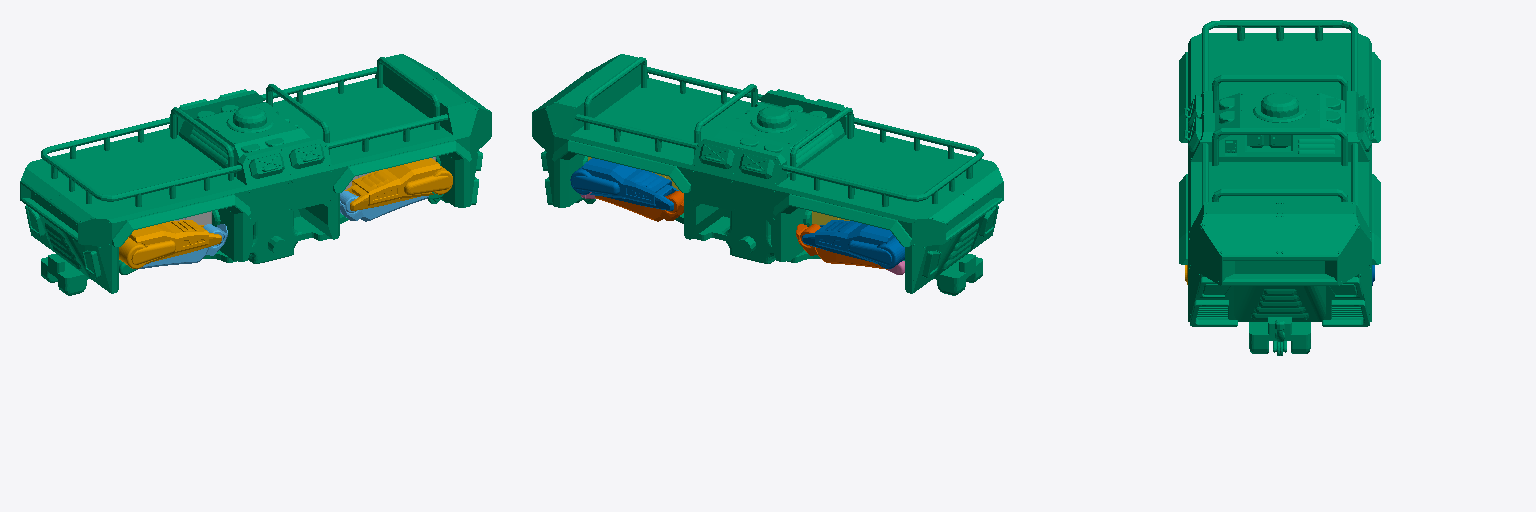
--- Render facts (derived) ---
The picture shows the robot from 3 angles, left to right: view 1: azimuth 30°, elevation 25°; view 2: azimuth 150°, elevation 25°; view 3: azimuth 270°, elevation 25°; orthographic projection.
Model kitech_robot with 21 links and 20 joints (12 revolute, 2 continuous, 6 fixed), rooted at world, posed every joint at zero.
Links seen in each view (by area): view 1: body, RF_limb_1, RH_limb_1, RF_limb_2, RH_limb_2; view 2: body, LF_limb_1, LH_limb_1, LF_limb_2, LH_limb_2; view 3: body.
Link boxes in pixels (box(x1,y1,x2,y2)): body: box(20, 54, 491, 295); RF_limb_1: box(345, 158, 452, 210); RH_limb_1: box(119, 220, 221, 268); RF_limb_2: box(340, 191, 428, 221); RH_limb_2: box(136, 224, 227, 269); body: box(532, 54, 1003, 295); LF_limb_1: box(570, 158, 678, 210); LH_limb_1: box(802, 220, 904, 268); LF_limb_2: box(595, 191, 683, 221); LH_limb_2: box(796, 224, 887, 269); body: box(1179, 20, 1380, 355).
Bounding box of the posed robot: 2.26 × 0.83 × 1.78 m (x, y, z).
Meshes: 7 distinct files referenced, 17 mesh visuals loaded (6 binary STL); not drawn: 2 (reference not matched to a file when rendering).

URDF robot description (kitech_robot):
<?xml version="1.0" ?>
<!-- =================================================================================== -->
<!-- |    This document was autogenerated by xacro from kitech_robot.xacro             | -->
<!-- |    EDITING THIS FILE BY HAND IS NOT RECOMMENDED                                 | -->
<!-- =================================================================================== -->
<robot name="kitech_robot" xmlns:xacro="http://ros.org/wiki/xacro">
  <!-- ros_control plugin -->
  <gazebo>
    <plugin filename="libgazebo_ros_control.so" name="gazebo_ros_control">
      <robotNamespace>/kitech_robot</robotNamespace>
      <robotSimType>gazebo_ros_control/DefaultRobotHWSim</robotSimType>
      <controlPeriod>0.001</controlPeriod>
    </plugin>
  </gazebo>
  <link name="world"/>
  <joint name="fixed_to_world" type="fixed">
    <origin xyz="0 0 0"/>
    <parent link="world"/>
    <child link="base_footprint"/>
  </joint>
  <!-- BASE-FOOTPRINT -->
  <!-- base_footprint is a fictitious link(frame) that is on the ground right below body origin -->
  <link name="base_footprint">
    <inertial>
      <origin xyz="0 0 0"/>
      <mass value="0.0001"/>
      <inertia ixx="0.0001" ixy="0.0" ixz="0.0" iyy="0.0001" iyz="0.0" izz="0.0001"/>
    </inertial>
    <visual>
      <origin rpy="0 0 0" xyz="0 0 0"/>
      <geometry>
        <box size="0.001 0.001 0.001"/>
      </geometry>
    </visual>
  </link>
  <joint name="footprint_body" type="fixed">
    <origin rpy="0 0 0" xyz="0 0 1"/>
    <parent link="base_footprint"/>
    <child link="body"/>
  </joint>
  <link name="body">
    <inertial>
      <origin rpy="0 0 0" xyz="0.062594 0.0 0.457496"/>
      <mass value="1181"/>
      <inertia ixx="64.387768" ixy="-0.007626" ixz="-7.441046" iyy="461.852065" iyz="-0.011013" izz="480.676973"/>
    </inertial>
    <visual>
      <origin xyz="0.0 0.0 0.46585"/>
      <geometry>
        <mesh filename="package://kitech_robots_description/mesh/for_VREP/Body_with_wheel_plate.stl" scale="0.001 0.001 0.001"/>
      </geometry>
    </visual>
    <collision>
      <origin xyz="0.059 0.0 0.425"/>
      <geometry>
        <box size="2.27 0.83 0.702"/>
      </geometry>
    </collision>
  </link>
  <joint name="LF_HAA_joint" type="revolute">
    <origin xyz="0.816 0.17 0.37085"/>
    <parent link="body"/>
    <child link="LF_limb_0"/>
    <axis xyz="1 0 0"/>
    <limit effort="500" lower="-3.14159265359" upper="3.14159265359" velocity="20"/>
    <!-- <dynamics damping="0.2" friction="0.2"/> -->
  </joint>
  <link name="LF_limb_0">
    <inertial>
      <origin xyz="-0.218617 0.0 -0.000024"/>
      <mass value="11.381"/>
      <inertia ixx="0.027746" ixy="0.0" ixz="0.0" iyy="0.331276" iyz="0.0" izz="0.308905"/>
    </inertial>
    <visual>
      <origin rpy="0.0 0.0 0.0" xyz="0.0 0.0 0.0"/>
      <geometry>
        <mesh filename="package://kitech_robots_description/mesh/for_VREP/Limb_0.stl" scale="0.001 0.001 0.001"/>
      </geometry>
    </visual>
    <collision>
      <origin rpy="0.0 0.0 0.0" xyz="-0.215 0.0 0.0"/>
      <geometry>
        <box size="0.58 0.054 0.16"/>
      </geometry>
    </collision>
  </link>
  <joint name="LF_HFE_joint" type="revolute">
    <origin xyz="0.0 0.11 0.0"/>
    <parent link="LF_limb_0"/>
    <child link="LF_limb_1"/>
    <axis xyz="0 1 0"/>
    <limit effort="500" lower="-1.57079632679" upper="-0.0" velocity="20"/>
    <!-- <dynamics damping="0.2" friction="0.2"/> -->
  </joint>
  <link name="LF_limb_1">
    <inertial>
      <origin xyz="-0.146209 0.004659 0.007285"/>
      <mass value="24.551"/>
      <inertia ixx="0.096263" ixy="-0.00973" ixz="-0.013271" iyy="0.395041" iyz="0.00026" izz="0.42336"/>
    </inertial>
    <visual>
      <origin rpy="0.0 0.0 0.0" xyz="0.0 0.0 0.0"/>
      <geometry>
        <mesh filename="package://kitech_robots_description/mesh/for_VREP/Limb_1_left.stl" scale="0.001 0.001 0.001"/>
      </geometry>
    </visual>
    <collision>
      <origin rpy="0.0 0.0 0.0" xyz="-0.205 0.013 0.0125"/>
      <geometry>
        <box size="0.53 0.196 0.155"/>
      </geometry>
    </collision>
  </link>
  <joint name="LF_KFE_joint" type="revolute">
    <origin xyz="-0.45 0.0 -0.03"/>
    <parent link="LF_limb_1"/>
    <child link="LF_limb_2"/>
    <axis xyz="0 1 0"/>
    <limit effort="500" lower="0.0" upper="3.14159265359" velocity="20"/>
    <!-- <dynamics damping="0.2" friction="0.2"/> -->
  </joint>
  <link name="LF_limb_2">
    <inertial>
      <origin xyz="0.114799 -1.4e-05 -0.044794"/>
      <mass value="6.629"/>
      <inertia ixx="0.009829" ixy="0.0" ixz="0.012479" iyy="0.107571" iyz="0.0" izz="0.103829"/>
    </inertial>
    <visual>
      <origin rpy="0.0 0.0 0.0" xyz="0.0 0.0 0.0"/>
      <geometry>
        <mesh filename="package://kitech_robots_description/mesh/for_VREP/Limb_2.stl" scale="0.001 0.001 0.001"/>
      </geometry>
    </visual>
    <collision>
      <origin rpy="0.0 0.0 0.0" xyz="0.171323 0.0 -0.036283"/>
      <geometry>
        <box size="0.497 0.095 0.153"/>
      </geometry>
    </collision>
  </link>
  <joint name="LF_foot" type="fixed">
    <origin xyz="0.4187 0.0 -0.044234"/>
    <parent link="LF_limb_2"/>
    <child link="LF_foot"/>
  </joint>
  <link name="LF_foot">
    <inertial>
      <origin xyz="0.0442 2.8e-05 -0.012672"/>
      <mass value="0.2"/>
      <inertia ixx="0.000083" ixy="0.0" ixz="0.0" iyy="0.000146" iyz="0.0" izz="0.000131"/>
    </inertial>
    <visual>
      <origin rpy="0.0 0.0 0.0" xyz="0.0 0.0 0.0"/>
      <geometry>
        <mesh filename="package://kitech_robots_description/mesh/for_VREP/Foot.stl" scale="0.001 0.001 0.001"/>
      </geometry>
    </visual>
    <collision>
      <origin rpy="1.57079632679 0.0 0.0" xyz="0.05 0.0 -0.013252"/>
      <geometry>
        <cylinder length="0.05" radius="0.035"/>
      </geometry>
    </collision>
  </link>
  <transmission name="LF_HAA_trans">
    <type>transmission_interface/SimpleTransmission</type>
    <joint name="LF_HAA_joint">
      <hardwareInterface>hardware_interface/EffortJointInterface</hardwareInterface>
    </joint>
    <actuator name="LF_HAA_motor">
      <hardwareInterface>hardware_interface/EffortJointInterface</hardwareInterface>
      <mechanicalReduction>1</mechanicalReduction>
    </actuator>
  </transmission>
  <transmission name="LF_HFE_trans">
    <type>transmission_interface/SimpleTransmission</type>
    <joint name="LF_HFE_joint">
      <hardwareInterface>hardware_interface/EffortJointInterface</hardwareInterface>
    </joint>
    <actuator name="LF_HFE_motor">
      <hardwareInterface>hardware_interface/EffortJointInterface</hardwareInterface>
      <mechanicalReduction>1</mechanicalReduction>
    </actuator>
  </transmission>
  <transmission name="LF_KFE_trans">
    <type>transmission_interface/SimpleTransmission</type>
    <joint name="LF_KFE_joint">
      <hardwareInterface>hardware_interface/EffortJointInterface</hardwareInterface>
    </joint>
    <actuator name="LF_KFE_motor">
      <hardwareInterface>hardware_interface/EffortJointInterface</hardwareInterface>
      <mechanicalReduction>1</mechanicalReduction>
    </actuator>
  </transmission>
  <joint name="RF_HAA_joint" type="revolute">
    <origin xyz="0.816 -0.17 0.37085"/>
    <parent link="body"/>
    <child link="RF_limb_0"/>
    <axis xyz="1 0 0"/>
    <limit effort="500" lower="-3.14159265359" upper="3.14159265359" velocity="20"/>
    <!-- <dynamics damping="0.2" friction="0.2"/> -->
  </joint>
  <link name="RF_limb_0">
    <inertial>
      <origin xyz="-0.218617 0.0 -0.000024"/>
      <mass value="11.381"/>
      <inertia ixx="0.027746" ixy="0.0" ixz="0.0" iyy="0.331276" iyz="0.0" izz="0.308905"/>
    </inertial>
    <visual>
      <origin rpy="0.0 0.0 0.0" xyz="0.0 0.0 0.0"/>
      <geometry>
        <mesh filename="package://kitech_robots_description/mesh/for_VREP/Limb_0.stl" scale="0.001 0.001 0.001"/>
      </geometry>
    </visual>
    <collision>
      <origin rpy="0.0 0.0 0.0" xyz="-0.215 0.0 0.0"/>
      <geometry>
        <box size="0.58 0.054 0.16"/>
      </geometry>
    </collision>
  </link>
  <joint name="RF_HFE_joint" type="revolute">
    <origin xyz="0.0 -0.11 0.0"/>
    <parent link="RF_limb_0"/>
    <child link="RF_limb_1"/>
    <axis xyz="0 1 0"/>
    <limit effort="500" lower="-1.57079632679" upper="-0.0" velocity="20"/>
    <!-- <dynamics damping="0.2" friction="0.2"/> -->
  </joint>
  <link name="RF_limb_1">
    <inertial>
      <origin xyz="-0.146209 -0.004659 0.007285"/>
      <mass value="24.551"/>
      <inertia ixx="0.096263" ixy="0.00973" ixz="-0.013271" iyy="0.395041" iyz="-0.00026" izz="0.42336"/>
    </inertial>
    <visual>
      <origin rpy="0.0 0.0 0.0" xyz="0.0 0.0 0.0"/>
      <geometry>
        <mesh filename="package://kitech_robots_description/mesh/for_VREP/Limb_1_right.stl" scale="0.001 0.001 0.001"/>
      </geometry>
    </visual>
    <collision>
      <origin rpy="0.0 0.0 0.0" xyz="-0.205 -0.013 0.0125"/>
      <geometry>
        <box size="0.53 0.196 0.155"/>
      </geometry>
    </collision>
  </link>
  <joint name="RF_KFE_joint" type="revolute">
    <origin xyz="-0.45 0.0 -0.03"/>
    <parent link="RF_limb_1"/>
    <child link="RF_limb_2"/>
    <axis xyz="0 1 0"/>
    <limit effort="500" lower="0.0" upper="3.14159265359" velocity="20"/>
    <!-- <dynamics damping="0.2" friction="0.2"/> -->
  </joint>
  <link name="RF_limb_2">
    <inertial>
      <origin xyz="0.114799 1.4e-05 -0.044794"/>
      <mass value="6.629"/>
      <inertia ixx="0.009829" ixy="0.0" ixz="0.012479" iyy="0.107571" iyz="0.0" izz="0.103829"/>
    </inertial>
    <visual>
      <origin rpy="0.0 0.0 0.0" xyz="0.0 0.0 0.0"/>
      <geometry>
        <mesh filename="package://kitech_robots_description/mesh/for_VREP/Limb_2.stl" scale="0.001 0.001 0.001"/>
      </geometry>
    </visual>
    <collision>
      <origin rpy="0.0 0.0 0.0" xyz="0.171323 0.0 -0.036283"/>
      <geometry>
        <box size="0.497 0.095 0.153"/>
      </geometry>
    </collision>
  </link>
  <joint name="RF_foot" type="fixed">
    <origin xyz="0.4187 0.0 -0.044234"/>
    <parent link="RF_limb_2"/>
    <child link="RF_foot"/>
  </joint>
  <link name="RF_foot">
    <inertial>
      <origin xyz="0.0442 -2.8e-05 -0.012672"/>
      <mass value="0.2"/>
      <inertia ixx="0.000083" ixy="0.0" ixz="0.0" iyy="0.000146" iyz="0.0" izz="0.000131"/>
    </inertial>
    <visual>
      <origin rpy="0.0 0.0 0.0" xyz="0.0 0.0 0.0"/>
      <geometry>
        <mesh filename="package://kitech_robots_description/mesh/for_VREP/Foot.stl" scale="0.001 0.001 0.001"/>
      </geometry>
    </visual>
    <collision>
      <origin rpy="1.57079632679 0.0 0.0" xyz="0.05 0.0 -0.013252"/>
      <geometry>
        <cylinder length="0.05" radius="0.035"/>
      </geometry>
    </collision>
  </link>
  <transmission name="RF_HAA_trans">
    <type>transmission_interface/SimpleTransmission</type>
    <joint name="RF_HAA_joint">
      <hardwareInterface>hardware_interface/EffortJointInterface</hardwareInterface>
    </joint>
    <actuator name="RF_HAA_motor">
      <hardwareInterface>hardware_interface/EffortJointInterface</hardwareInterface>
      <mechanicalReduction>1</mechanicalReduction>
    </actuator>
  </transmission>
  <transmission name="RF_HFE_trans">
    <type>transmission_interface/SimpleTransmission</type>
    <joint name="RF_HFE_joint">
      <hardwareInterface>hardware_interface/EffortJointInterface</hardwareInterface>
    </joint>
    <actuator name="RF_HFE_motor">
      <hardwareInterface>hardware_interface/EffortJointInterface</hardwareInterface>
      <mechanicalReduction>1</mechanicalReduction>
    </actuator>
  </transmission>
  <transmission name="RF_KFE_trans">
    <type>transmission_interface/SimpleTransmission</type>
    <joint name="RF_KFE_joint">
      <hardwareInterface>hardware_interface/EffortJointInterface</hardwareInterface>
    </joint>
    <actuator name="RF_KFE_motor">
      <hardwareInterface>hardware_interface/EffortJointInterface</hardwareInterface>
      <mechanicalReduction>1</mechanicalReduction>
    </actuator>
  </transmission>
  <joint name="LH_HAA_joint" type="revolute">
    <origin xyz="-0.816 0.17 0.37085"/>
    <parent link="body"/>
    <child link="LH_limb_0"/>
    <axis xyz="1 0 0"/>
    <limit effort="500" lower="-3.14159265359" upper="3.14159265359" velocity="20"/>
    <!-- <dynamics damping="0.2" friction="0.2"/> -->
  </joint>
  <link name="LH_limb_0">
    <inertial>
      <origin xyz="0.218617 0.0 -0.000024"/>
      <mass value="11.381"/>
      <inertia ixx="0.027746" ixy="0.0" ixz="0.0" iyy="0.331276" iyz="0.0" izz="0.308905"/>
    </inertial>
    <visual>
      <origin rpy="0.0 3.14159265359 0.0" xyz="0.0 0.0 0.0"/>
      <geometry>
        <mesh filename="package://kitech_robots_description/mesh/for_VREP/Limb_0.stl" scale="0.001 0.001 0.001"/>
      </geometry>
    </visual>
    <collision>
      <origin rpy="0.0 0.0 0.0" xyz="0.215 0.0 0.0"/>
      <geometry>
        <box size="0.58 0.054 0.16"/>
      </geometry>
    </collision>
  </link>
  <joint name="LH_HFE_joint" type="revolute">
    <origin xyz="0.0 0.11 0.0"/>
    <parent link="LH_limb_0"/>
    <child link="LH_limb_1"/>
    <axis xyz="0 1 0"/>
    <limit effort="500" lower="-0.0" upper="1.57079632679" velocity="20"/>
    <!-- <dynamics damping="0.2" friction="0.2"/> -->
  </joint>
  <link name="LH_limb_1">
    <inertial>
      <origin xyz="0.146209 0.004659 0.007285"/>
      <mass value="24.551"/>
      <inertia ixx="0.096263" ixy="-0.00973" ixz="-0.013271" iyy="0.395041" iyz="0.00026" izz="0.42336"/>
    </inertial>
    <visual>
      <origin rpy="0.0 0.0 3.14159265359" xyz="0.0 0.0 0.0"/>
      <geometry>
        <mesh filename="package://kitech_robots_description/mesh/for_VREP/Limb_1_right.stl" scale="0.001 0.001 0.001"/>
      </geometry>
    </visual>
    <collision>
      <origin rpy="0.0 0.0 3.14159265359" xyz="0.205 0.013 0.0125"/>
      <geometry>
        <box size="0.53 0.196 0.155"/>
      </geometry>
    </collision>
  </link>
  <joint name="LH_KFE_joint" type="revolute">
    <origin xyz="0.45 0.0 -0.03"/>
    <parent link="LH_limb_1"/>
    <child link="LH_limb_2"/>
    <axis xyz="0 1 0"/>
    <limit effort="500" lower="-3.14159265359" upper="0.0" velocity="20"/>
    <!-- <dynamics damping="0.2" friction="0.2"/> -->
  </joint>
  <link name="LH_limb_2">
    <inertial>
      <origin xyz="-0.114799 -1.4e-05 -0.044794"/>
      <mass value="6.629"/>
      <inertia ixx="0.009829" ixy="0.0" ixz="0.012479" iyy="0.107571" iyz="0.0" izz="0.103829"/>
    </inertial>
    <visual>
      <origin rpy="0.0 0.0 3.14159265359" xyz="0.0 0.0 0.0"/>
      <geometry>
        <mesh filename="package://kitech_robots_description/mesh/for_VREP/Limb_2.stl" scale="0.001 0.001 0.001"/>
      </geometry>
    </visual>
    <collision>
      <origin rpy="0.0 0.0 3.14159265359" xyz="-0.171323 0.0 -0.036283"/>
      <geometry>
        <box size="0.497 0.095 0.153"/>
      </geometry>
    </collision>
  </link>
  <joint name="LH_foot" type="fixed">
    <origin xyz="-0.4187 0.0 -0.044234"/>
    <parent link="LH_limb_2"/>
    <child link="LH_foot"/>
  </joint>
  <link name="LH_foot">
    <inertial>
      <origin xyz="-0.0442 2.8e-05 -0.012672"/>
      <mass value="0.2"/>
      <inertia ixx="0.000083" ixy="0.0" ixz="0.0" iyy="0.000146" iyz="0.0" izz="0.000131"/>
    </inertial>
    <visual>
      <origin rpy="0.0 0.0 3.14159265359" xyz="0.0 0.0 0.0"/>
      <geometry>
        <mesh filename="package://kitech_robots_description/mesh/for_VREP/Foot.stl" scale="0.001 0.001 0.001"/>
      </geometry>
    </visual>
    <collision>
      <origin rpy="1.57079632679 0.0 3.14159265359" xyz="-0.05 0.0 -0.013252"/>
      <geometry>
        <cylinder length="0.05" radius="0.035"/>
      </geometry>
    </collision>
  </link>
  <transmission name="LH_HAA_trans">
    <type>transmission_interface/SimpleTransmission</type>
    <joint name="LH_HAA_joint">
      <hardwareInterface>hardware_interface/EffortJointInterface</hardwareInterface>
    </joint>
    <actuator name="LH_HAA_motor">
      <hardwareInterface>hardware_interface/EffortJointInterface</hardwareInterface>
      <mechanicalReduction>1</mechanicalReduction>
    </actuator>
  </transmission>
  <transmission name="LH_HFE_trans">
    <type>transmission_interface/SimpleTransmission</type>
    <joint name="LH_HFE_joint">
      <hardwareInterface>hardware_interface/EffortJointInterface</hardwareInterface>
    </joint>
    <actuator name="LH_HFE_motor">
      <hardwareInterface>hardware_interface/EffortJointInterface</hardwareInterface>
      <mechanicalReduction>1</mechanicalReduction>
    </actuator>
  </transmission>
  <transmission name="LH_KFE_trans">
    <type>transmission_interface/SimpleTransmission</type>
    <joint name="LH_KFE_joint">
      <hardwareInterface>hardware_interface/EffortJointInterface</hardwareInterface>
    </joint>
    <actuator name="LH_KFE_motor">
      <hardwareInterface>hardware_interface/EffortJointInterface</hardwareInterface>
      <mechanicalReduction>1</mechanicalReduction>
    </actuator>
  </transmission>
  <joint name="RH_HAA_joint" type="revolute">
    <origin xyz="-0.816 -0.17 0.37085"/>
    <parent link="body"/>
    <child link="RH_limb_0"/>
    <axis xyz="1 0 0"/>
    <limit effort="500" lower="-3.14159265359" upper="3.14159265359" velocity="20"/>
    <!-- <dynamics damping="0.2" friction="0.2"/> -->
  </joint>
  <link name="RH_limb_0">
    <inertial>
      <origin xyz="0.218617 0.0 -0.000024"/>
      <mass value="11.381"/>
      <inertia ixx="0.027746" ixy="0.0" ixz="0.0" iyy="0.331276" iyz="0.0" izz="0.308905"/>
    </inertial>
    <visual>
      <origin rpy="0.0 3.14159265359 0.0" xyz="0.0 0.0 0.0"/>
      <geometry>
        <mesh filename="package://kitech_robots_description/mesh/for_VREP/Limb_0.stl" scale="0.001 0.001 0.001"/>
      </geometry>
    </visual>
    <collision>
      <origin rpy="0.0 0.0 0.0" xyz="0.215 0.0 0.0"/>
      <geometry>
        <box size="0.58 0.054 0.16"/>
      </geometry>
    </collision>
  </link>
  <joint name="RH_HFE_joint" type="revolute">
    <origin xyz="0.0 -0.11 0.0"/>
    <parent link="RH_limb_0"/>
    <child link="RH_limb_1"/>
    <axis xyz="0 1 0"/>
    <limit effort="500" lower="-0.0" upper="1.57079632679" velocity="20"/>
    <!-- <dynamics damping="0.2" friction="0.2"/> -->
  </joint>
  <link name="RH_limb_1">
    <inertial>
      <origin xyz="0.146209 -0.004659 0.007285"/>
      <mass value="24.551"/>
      <inertia ixx="0.096263" ixy="0.00973" ixz="-0.013271" iyy="0.395041" iyz="-0.00026" izz="0.42336"/>
    </inertial>
    <visual>
      <origin rpy="0.0 0.0 3.14159265359" xyz="0.0 0.0 0.0"/>
      <geometry>
        <mesh filename="package://kitech_robots_description/mesh/for_VREP/Limb_1_left.stl" scale="0.001 0.001 0.001"/>
      </geometry>
    </visual>
    <collision>
      <origin rpy="0.0 0.0 3.14159265359" xyz="0.205 -0.013 0.0125"/>
      <geometry>
        <box size="0.53 0.196 0.155"/>
      </geometry>
    </collision>
  </link>
  <joint name="RH_KFE_joint" type="revolute">
    <origin xyz="0.45 0.0 -0.03"/>
    <parent link="RH_limb_1"/>
    <child link="RH_limb_2"/>
    <axis xyz="0 1 0"/>
    <limit effort="500" lower="-3.14159265359" upper="0.0" velocity="20"/>
    <!-- <dynamics damping="0.2" friction="0.2"/> -->
  </joint>
  <link name="RH_limb_2">
    <inertial>
      <origin xyz="-0.114799 1.4e-05 -0.044794"/>
      <mass value="6.629"/>
      <inertia ixx="0.009829" ixy="0.0" ixz="0.012479" iyy="0.107571" iyz="0.0" izz="0.103829"/>
    </inertial>
    <visual>
      <origin rpy="0.0 0.0 3.14159265359" xyz="0.0 0.0 0.0"/>
      <geometry>
        <mesh filename="package://kitech_robots_description/mesh/for_VREP/Limb_2.stl" scale="0.001 0.001 0.001"/>
      </geometry>
    </visual>
    <collision>
      <origin rpy="0.0 0.0 3.14159265359" xyz="-0.171323 0.0 -0.036283"/>
      <geometry>
        <box size="0.497 0.095 0.153"/>
      </geometry>
    </collision>
  </link>
  <joint name="RH_foot" type="fixed">
    <origin xyz="-0.4187 0.0 -0.044234"/>
    <parent link="RH_limb_2"/>
    <child link="RH_foot"/>
  </joint>
  <link name="RH_foot">
    <inertial>
      <origin xyz="-0.0442 -2.8e-05 -0.012672"/>
      <mass value="0.2"/>
      <inertia ixx="0.000083" ixy="0.0" ixz="0.0" iyy="0.000146" iyz="0.0" izz="0.000131"/>
    </inertial>
    <visual>
      <origin rpy="0.0 0.0 3.14159265359" xyz="0.0 0.0 0.0"/>
      <geometry>
        <mesh filename="package://kitech_robots_description/mesh/for_VREP/Foot.stl" scale="0.001 0.001 0.001"/>
      </geometry>
    </visual>
    <collision>
      <origin rpy="1.57079632679 0.0 3.14159265359" xyz="-0.05 0.0 -0.013252"/>
      <geometry>
        <cylinder length="0.05" radius="0.035"/>
      </geometry>
    </collision>
  </link>
  <transmission name="RH_HAA_trans">
    <type>transmission_interface/SimpleTransmission</type>
    <joint name="RH_HAA_joint">
      <hardwareInterface>hardware_interface/EffortJointInterface</hardwareInterface>
    </joint>
    <actuator name="RH_HAA_motor">
      <hardwareInterface>hardware_interface/EffortJointInterface</hardwareInterface>
      <mechanicalReduction>1</mechanicalReduction>
    </actuator>
  </transmission>
  <transmission name="RH_HFE_trans">
    <type>transmission_interface/SimpleTransmission</type>
    <joint name="RH_HFE_joint">
      <hardwareInterface>hardware_interface/EffortJointInterface</hardwareInterface>
    </joint>
    <actuator name="RH_HFE_motor">
      <hardwareInterface>hardware_interface/EffortJointInterface</hardwareInterface>
      <mechanicalReduction>1</mechanicalReduction>
    </actuator>
  </transmission>
  <transmission name="RH_KFE_trans">
    <type>transmission_interface/SimpleTransmission</type>
    <joint name="RH_KFE_joint">
      <hardwareInterface>hardware_interface/EffortJointInterface</hardwareInterface>
    </joint>
    <actuator name="RH_KFE_motor">
      <hardwareInterface>hardware_interface/EffortJointInterface</hardwareInterface>
      <mechanicalReduction>1</mechanicalReduction>
    </actuator>
  </transmission>
  <joint name="left_wheel_joint" type="continuous">
    <origin xyz="0.0 0.3 0.20085"/>
    <parent link="body"/>
    <child link="left_wheel"/>
    <axis xyz="0 1 0"/>
  </joint>
  <link name="left_wheel">
    <inertial>
      <origin xyz="0.0 0.032021 0.0"/>
      <mass value="3.871"/>
      <inertia ixx="0.056425" ixy="0.0" ixz="0.0" iyy="0.094098" iyz="0.0" izz="0.056425"/>
    </inertial>
    <visual>
      <origin rpy="0.0 0.0 0.0" xyz="0.0 0.0 0.0"/>
      <geometry>
        <mesh filename="package://kitech_robots_description/mesh/for_VREP/Wheel.stl" scale="0.001 0.001 0.001"/>
      </geometry>
    </visual>
    <collision>
      <origin rpy="1.57079632679 0.0 0.0" xyz="0.0 0.0265 0.0"/>
      <geometry>
        <cylinder length="0.153" radius="0.2005"/>
      </geometry>
    </collision>
  </link>
  <transmission name="left_trans">
    <type>transmission_interface/SimpleTransmission</type>
    <joint name="left_wheel_joint">
      <hardwareInterface>hardware_interface/EffortJointInterface</hardwareInterface>
    </joint>
    <actuator name="left_motor">
      <hardwareInterface>hardware_interface/EffortJointInterface</hardwareInterface>
      <mechanicalReduction>1</mechanicalReduction>
    </actuator>
  </transmission>
  <joint name="right_wheel_joint" type="continuous">
    <origin xyz="0.0 -0.3 0.20085"/>
    <parent link="body"/>
    <child link="right_wheel"/>
    <axis xyz="0 1 0"/>
  </joint>
  <link name="right_wheel">
    <inertial>
      <origin xyz="0.0 -0.032021 0.0"/>
      <mass value="3.871"/>
      <inertia ixx="0.056425" ixy="0.0" ixz="0.0" iyy="0.094098" iyz="0.0" izz="0.056425"/>
    </inertial>
    <visual>
      <origin rpy="3.14159265359 0.0 0.0" xyz="0.0 0.0 0.0"/>
      <geometry>
        <mesh filename="package://kitech_robots_description/mesh/for_VREP/Wheel.stl" scale="0.001 0.001 0.001"/>
      </geometry>
    </visual>
    <collision>
      <origin rpy="1.57079632679 0.0 0.0" xyz="0.0 -0.0265 0.0"/>
      <geometry>
        <cylinder length="0.153" radius="0.2005"/>
      </geometry>
    </collision>
  </link>
  <transmission name="right_trans">
    <type>transmission_interface/SimpleTransmission</type>
    <joint name="right_wheel_joint">
      <hardwareInterface>hardware_interface/EffortJointInterface</hardwareInterface>
    </joint>
    <actuator name="right_motor">
      <hardwareInterface>hardware_interface/EffortJointInterface</hardwareInterface>
      <mechanicalReduction>1</mechanicalReduction>
    </actuator>
  </transmission>
</robot>
